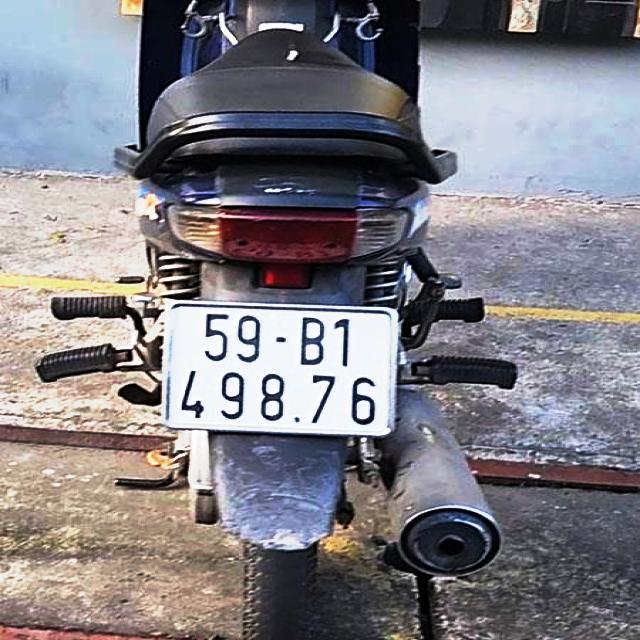license_plate: (164, 308, 395, 434)
